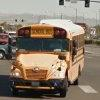Bus: (6, 19, 88, 95)
